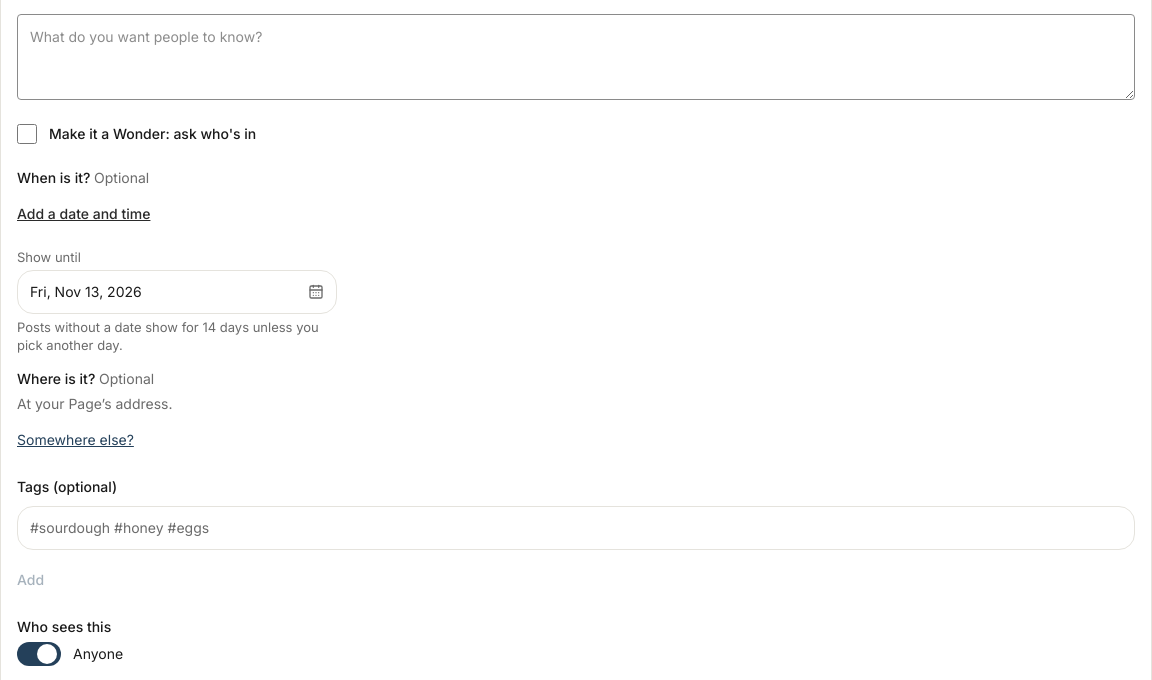
Test: F117 — posting a Wonder › refuses a threshold that is not a whole number
In the text box with test id "page-post-body": (576, 57) 17,14 -> 1135,100, type "A tool library?"
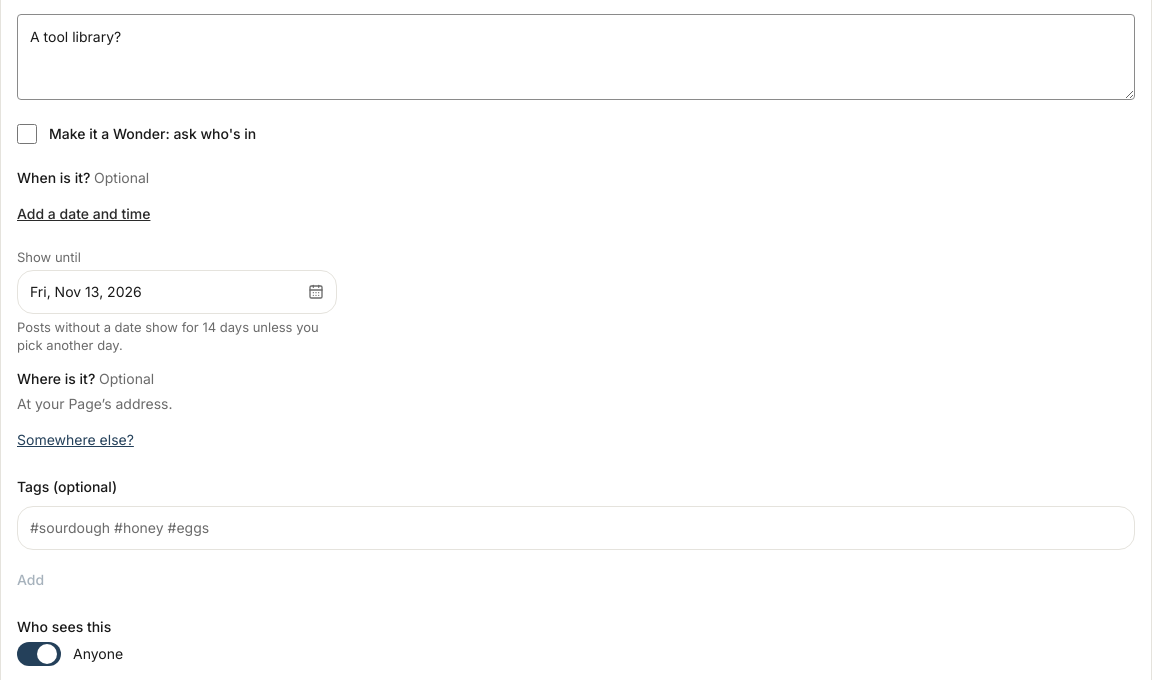
Click the checkbox labelled "Make it a Wonder: ask who's in": (27, 134) 17,124 -> 37,144
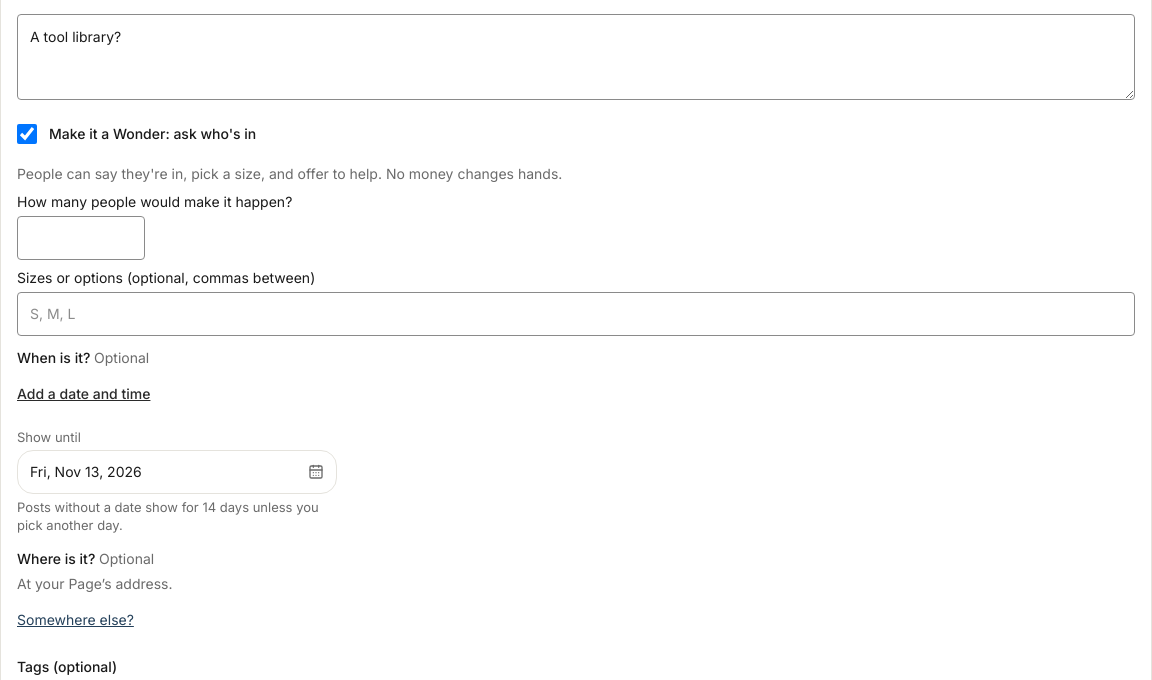
In the number field labelled "How many people would make it happen?": (81, 238) 17,216 -> 145,260, type "2.5"
(page scrolled)
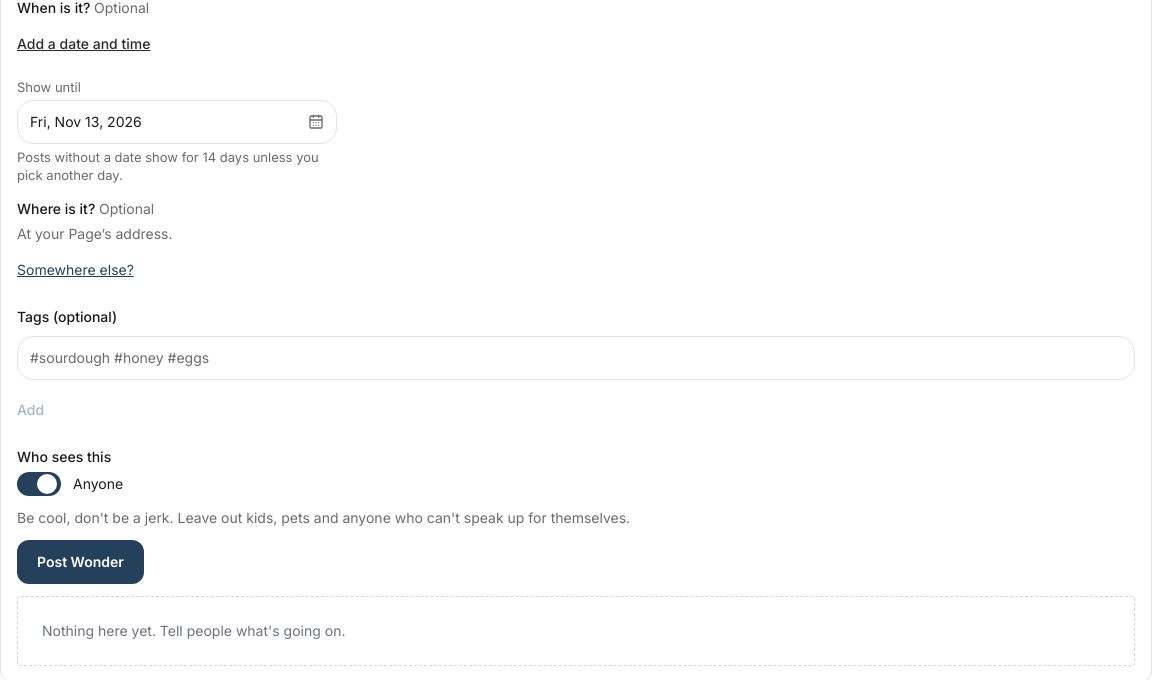
Click the button with test id "page-post-send": (80, 562) 17,540 -> 144,584
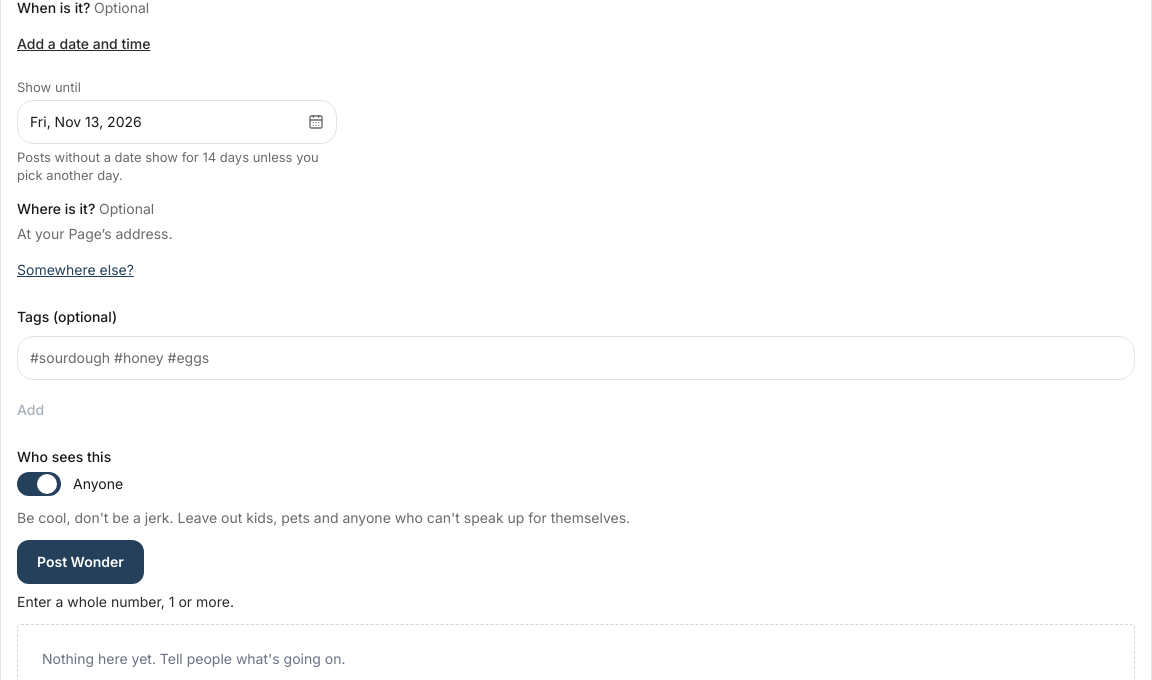
Result: the text "Enter a whole number, 1 or more." is shown at 17,593 -> 234,610
